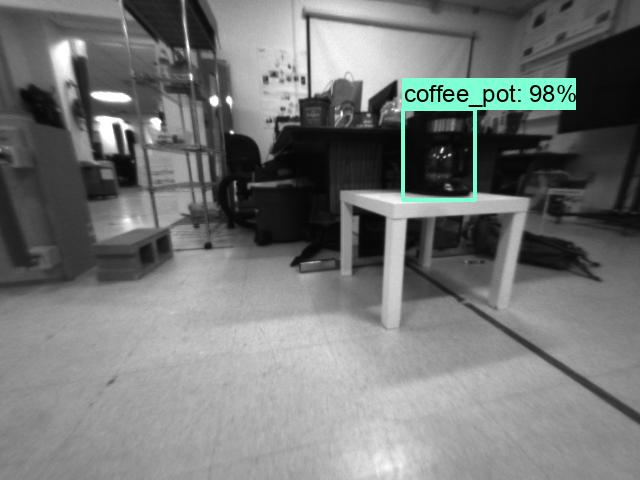coffee_pot: (404, 115, 473, 196)
